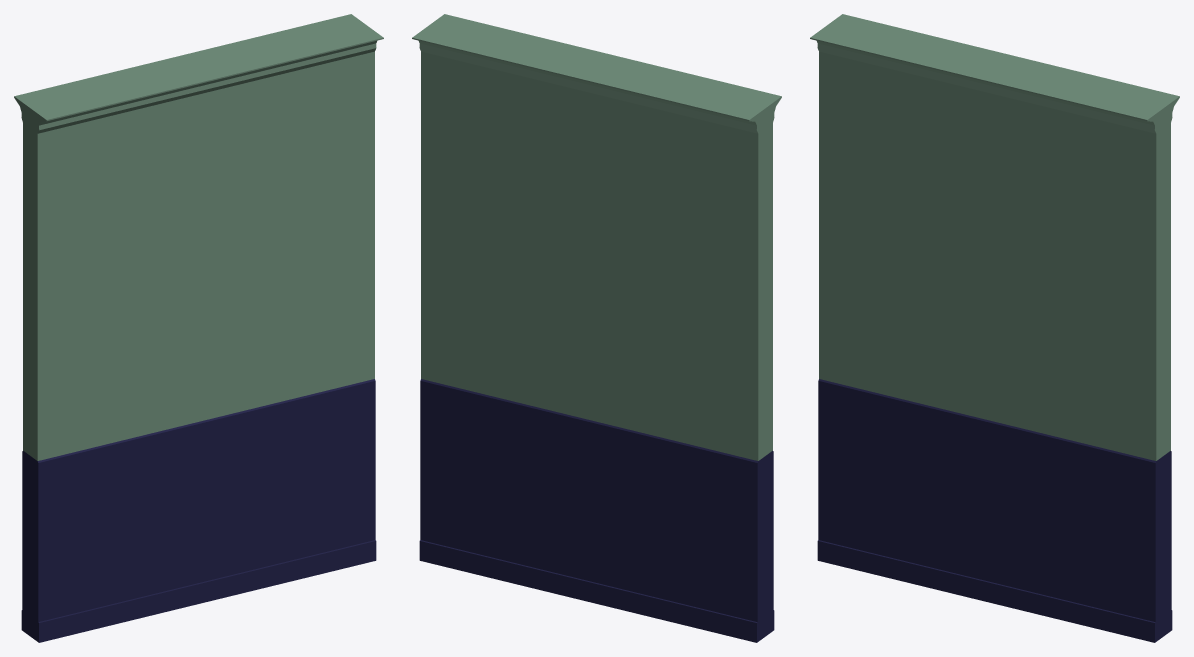
The model's file is wall_2m.fbx.
3 renders of one model, left to right at view 1: azimuth 30°, elevation 25°; view 2: azimuth 150°, elevation 25°; view 3: azimuth 330°, elevation 25°, orthographic.
Visible parts, largest first — view 1: Cube.003; view 2: Cube.003; view 3: Cube.003.
Boxes of the visible parts, left/top/right/bottom form: Cube.003: left=14, top=14, right=383, bottom=642; Cube.003: left=412, top=14, right=781, bottom=642; Cube.003: left=810, top=14, right=1179, bottom=642.
Size of the model in its own units: 200 by 300 by 33.43.
